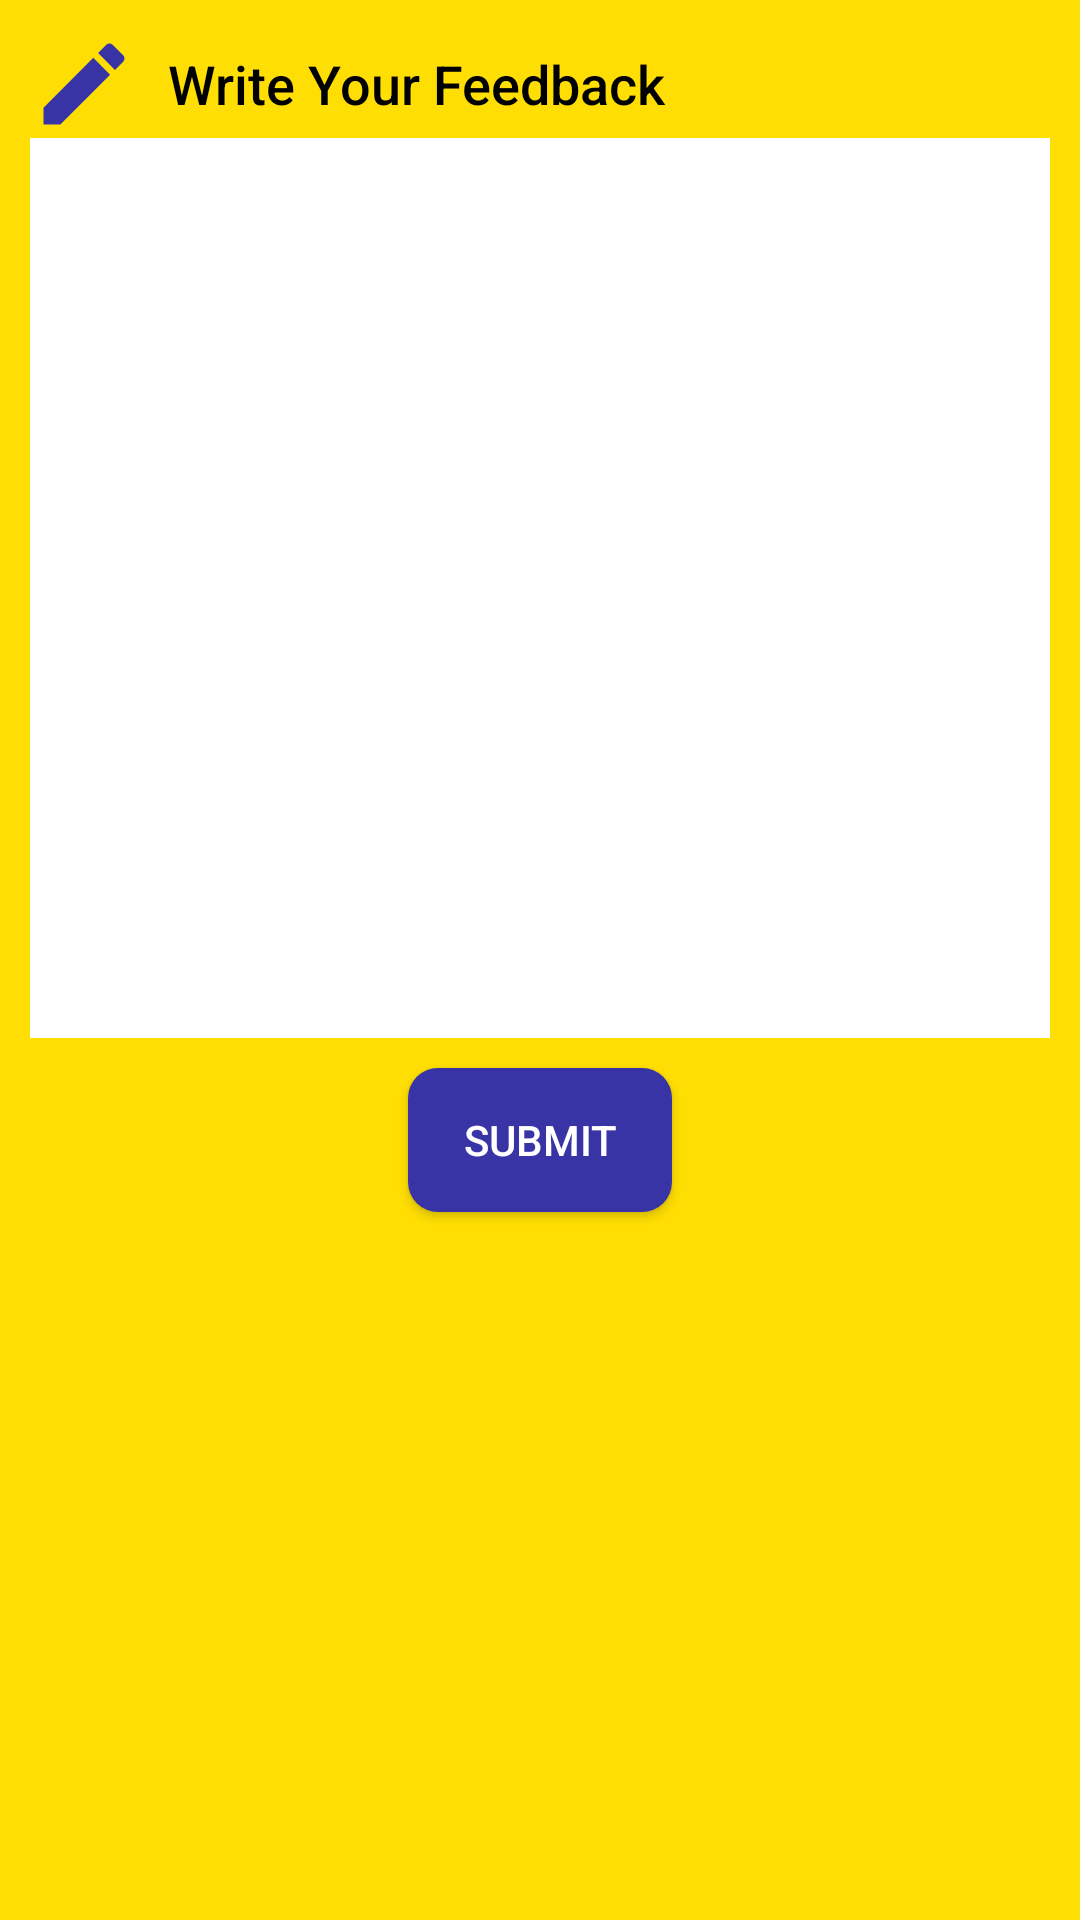

Screen size 1080w x 1920h. Icon name, then its box in pixels as (x1, y1, x2, y2):
edit: (43, 43, 125, 125)
